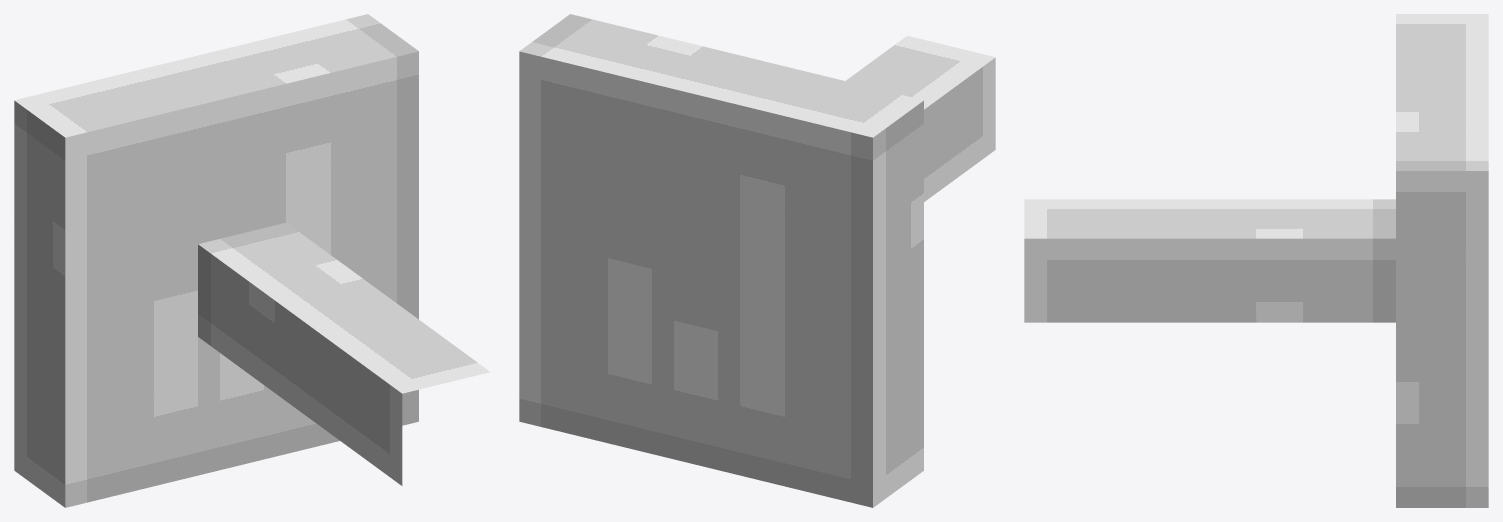
Rendered from block_template_piston_head.gltf.
The picture shows the model from 3 angles, left to right: view 1: azimuth 30°, elevation 25°; view 2: azimuth 150°, elevation 25°; view 3: azimuth 270°, elevation 25°; orthographic projection. The views are drawn at different scales.
Parts seen in each view (by area): view 1: cube (×2); view 2: cube (×2); view 3: cube (×2).
Boxes of the visible parts, x1,y1,x2,y2 form: cube (×2): (14, 14, 490, 507); cube (×2): (519, 14, 995, 507); cube (×2): (1024, 14, 1488, 507).
Bounding box in the file's own units: 1 × 1 × 1.25.
3 materials, 3 textured.
